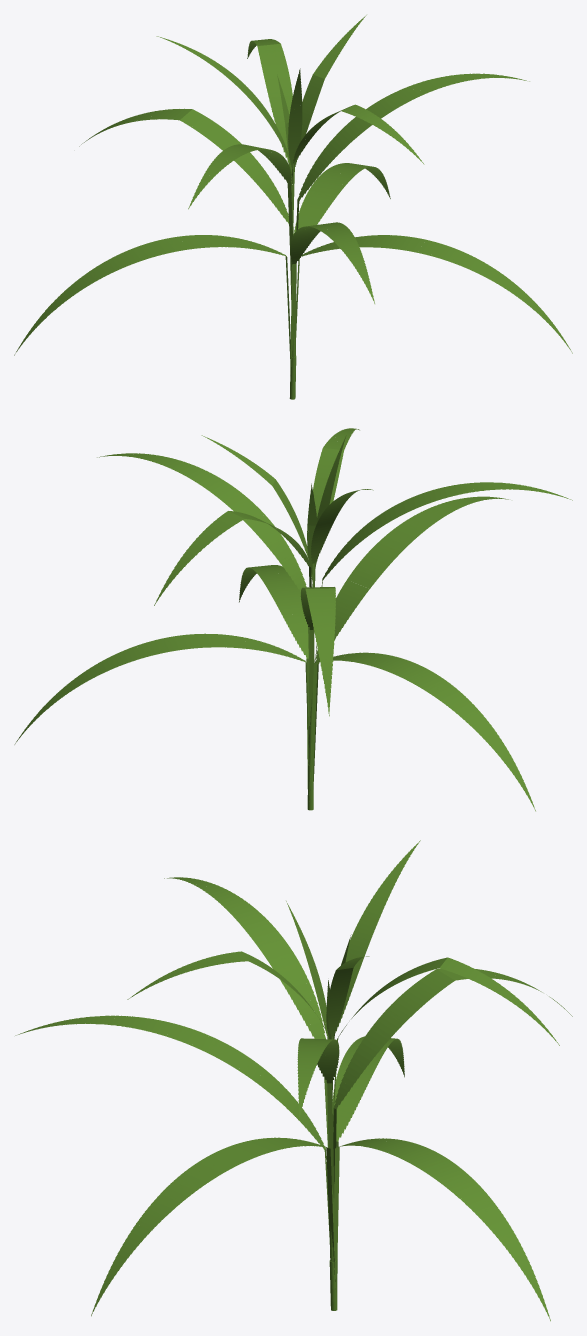
Rendered from maize_001_day_085.dae.
3 views of the same model, one above another, from view 1: azimuth 30°, elevation 25°; view 2: azimuth 150°, elevation 25°; view 3: azimuth 270°, elevation 25° (orthographic). The views are drawn at different scales.
Parts seen in each view (by area): view 1: node; view 2: node; view 3: node.
Part boxes in pixels (left/top/right/bottom): node: left=14, top=15, right=572, bottom=399; node: left=14, top=428, right=572, bottom=811; node: left=15, top=840, right=572, bottom=1321.
Bounding box in the file's own units: 1.56 × 1.14 × 1.39.
1 material, 1 textured.
